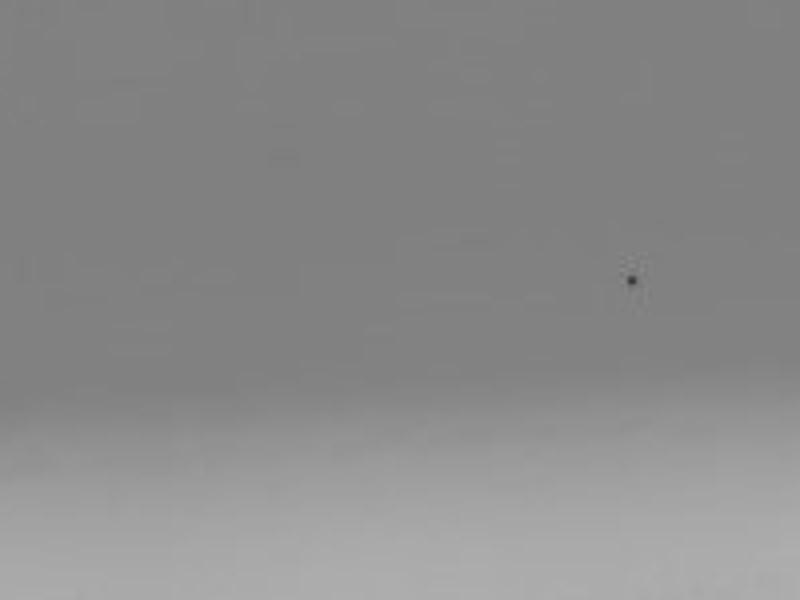defect: (620, 271, 642, 290)
